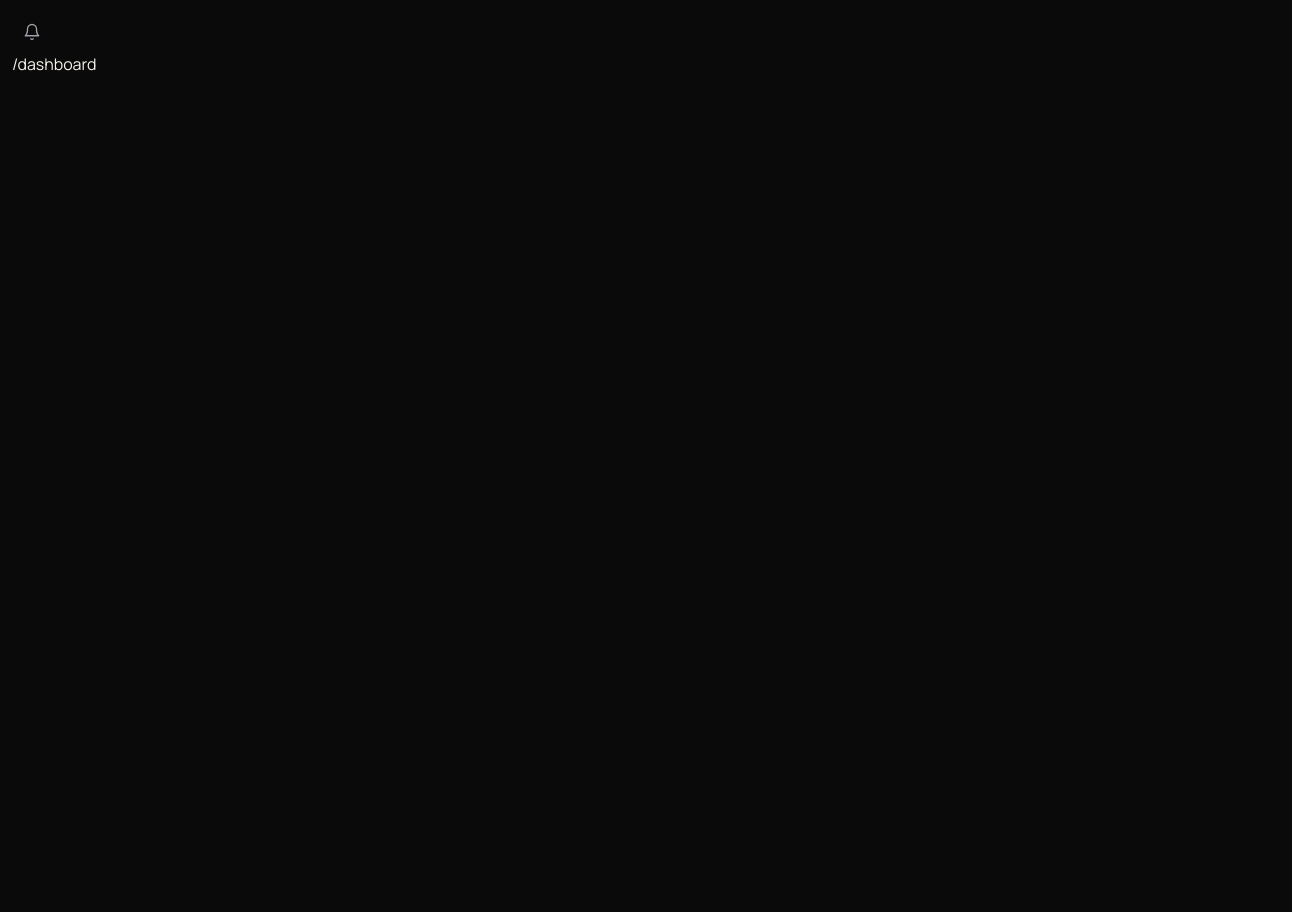
Test: NotificationBell (C-15) › a flight alert with a trip opens that trip
Click the button named "Notificaciones" at point(32, 32), box x1=12 y1=12 x2=52 y2=52
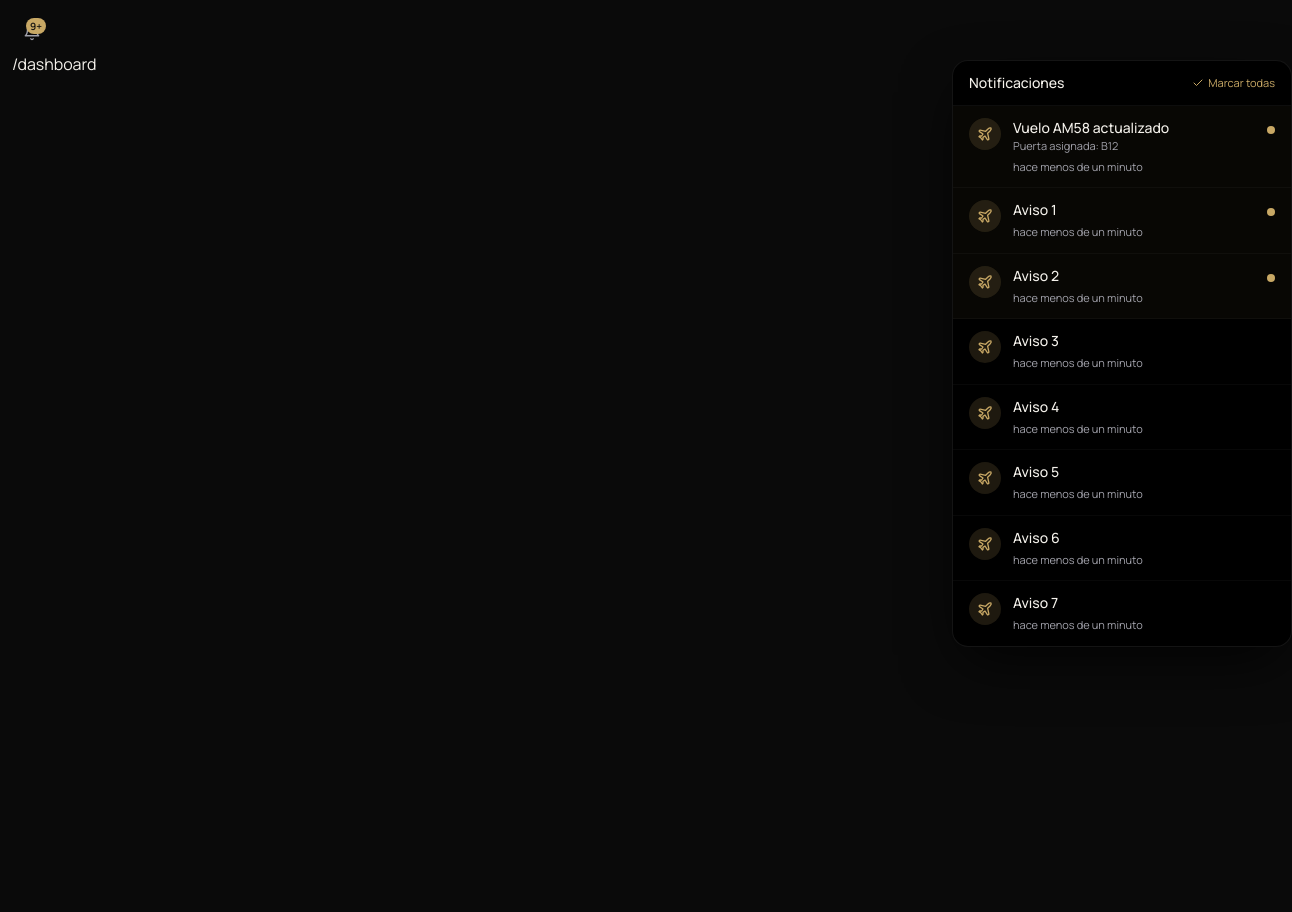
Click the text "Vuelo AM58 actualizado" at point(1091, 128), box x1=1013 y1=118 x2=1169 y2=137
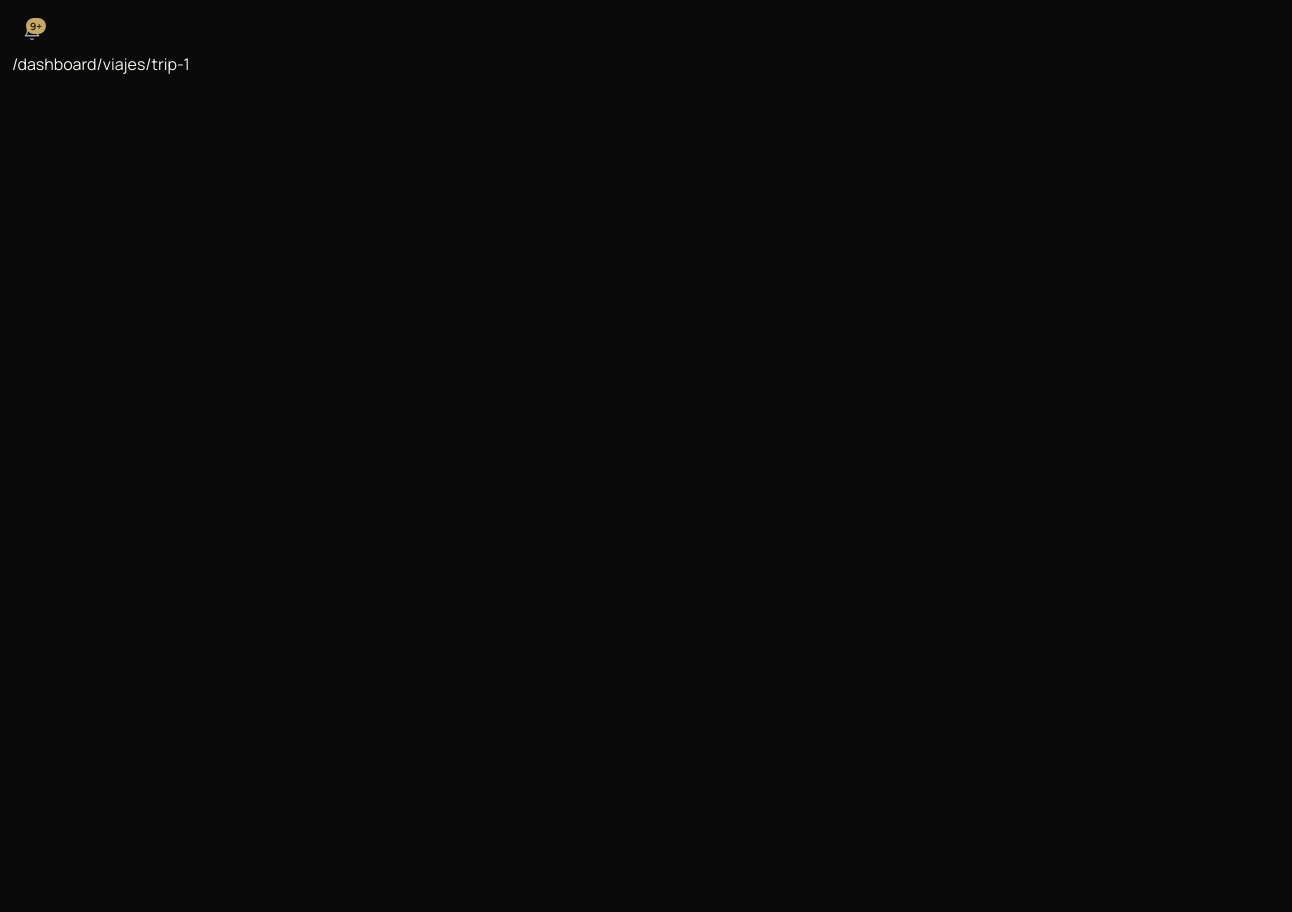
Now the text with test id "where" reads "/dashboard/viajes/trip-1", box x1=12 y1=53 x2=190 y2=75
